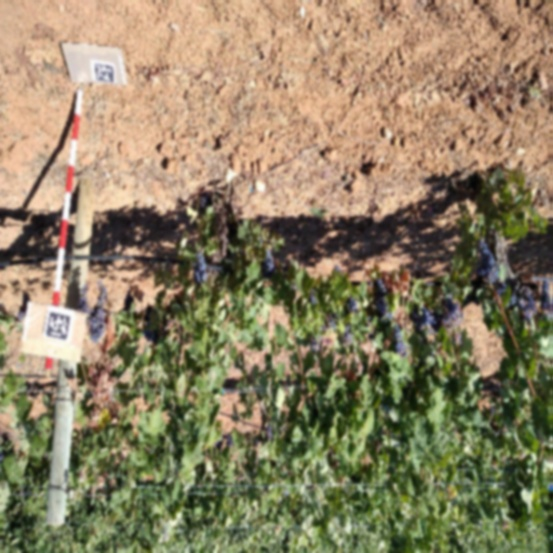QR: (48, 313, 71, 339), (96, 63, 115, 85)
